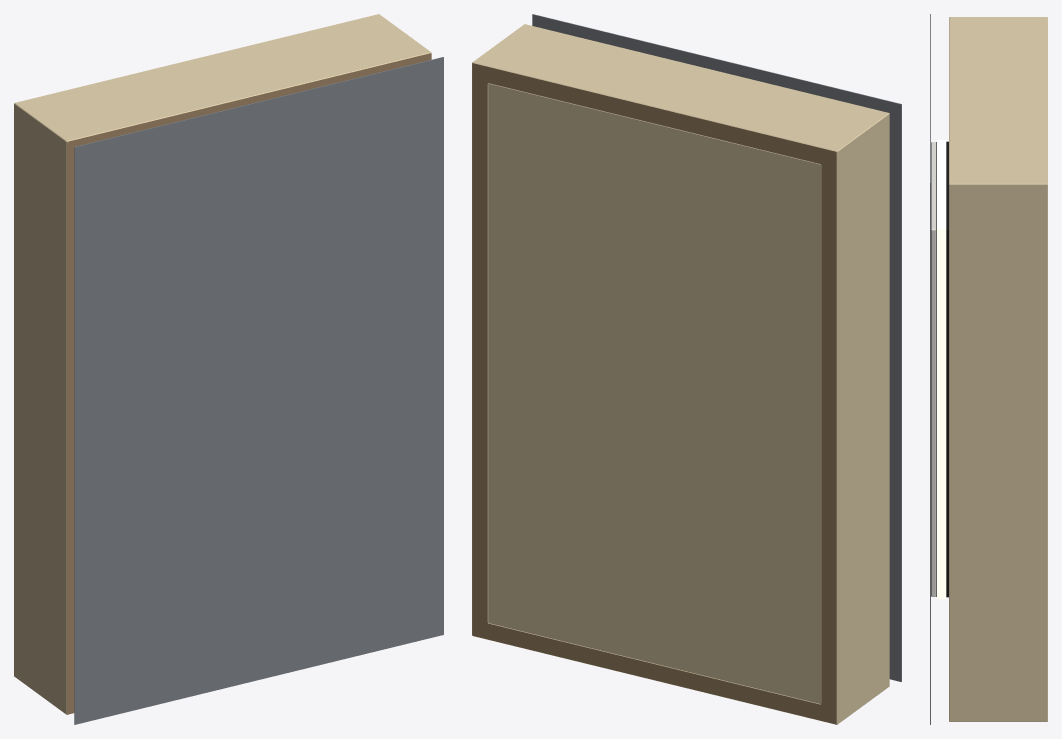
3 views of the same model, side by side, from view 1: azimuth 30°, elevation 25°; view 2: azimuth 150°, elevation 25°; view 3: azimuth 270°, elevation 25° (orthographic). The views are drawn at different scales.
Visible parts, largest first — view 1: SR01-panel, SR01-body, SR01-body_edges; view 2: SR01-back, SR01-body, SR01-body_edges, SR01-panel; view 3: SR01-body, SR01-led_4, SR01-core_top, SR01-core_tier_4, SR01-panel.
Part boxes in pixels (x1,y1,x2,y2): SR01-panel: [74, 57, 443, 724]; SR01-body: [14, 14, 431, 714]; SR01-body_edges: [67, 53, 431, 714]; SR01-back: [488, 83, 821, 703]; SR01-body: [472, 24, 889, 724]; SR01-body_edges: [472, 63, 836, 724]; SR01-panel: [532, 14, 901, 681]; SR01-body: [949, 17, 1047, 721]; SR01-led_4: [936, 140, 946, 598]; SR01-core_top: [931, 142, 935, 596]; SR01-core_tier_4: [936, 141, 948, 597]; SR01-panel: [930, 14, 930, 724].
Size of the model in its own units: 0.404 by 0.604 by 0.119.
